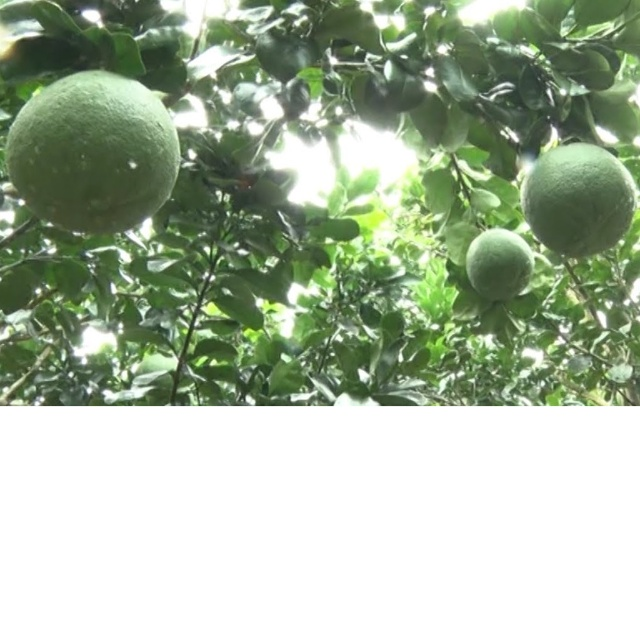buoi: (3, 67, 183, 236), (518, 141, 639, 260), (464, 226, 536, 302)
